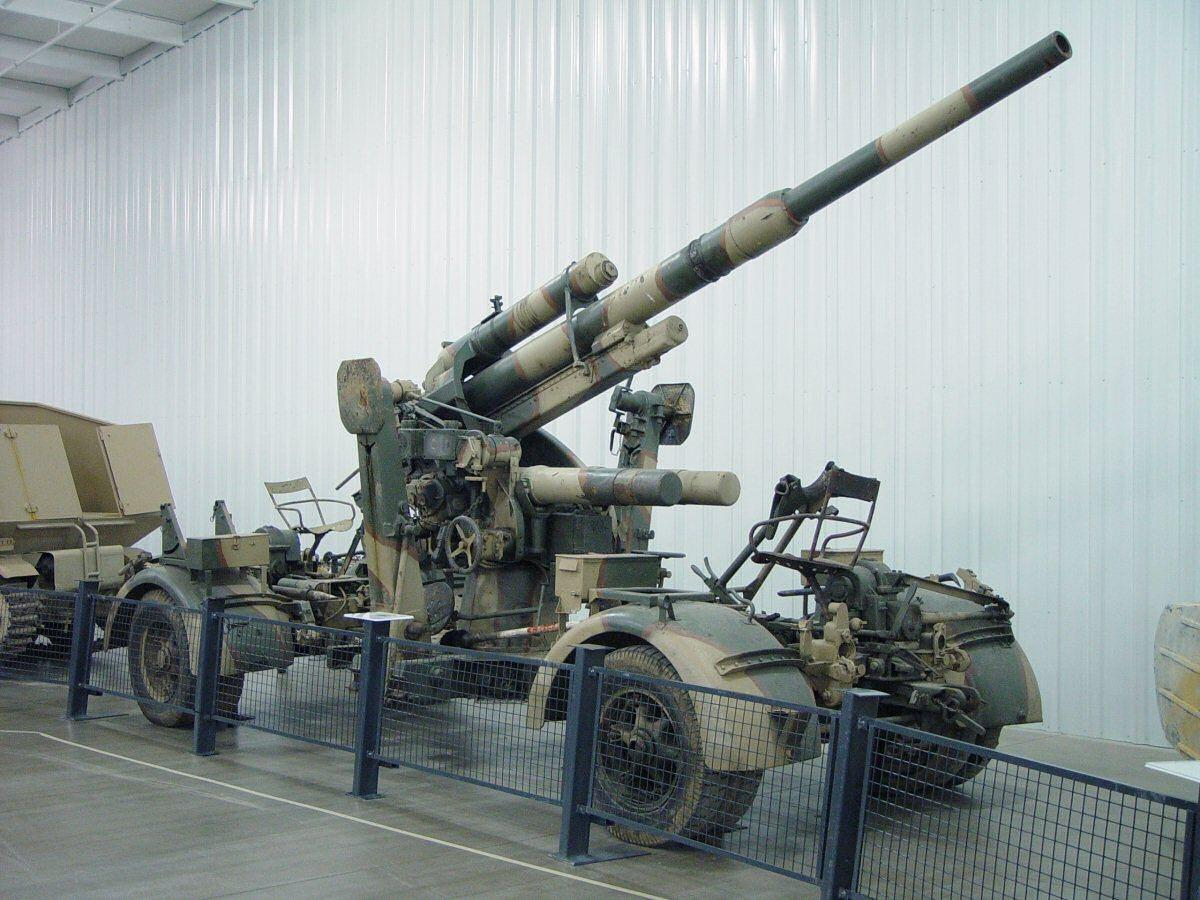MIL_SPG: (120, 35, 1071, 745)
